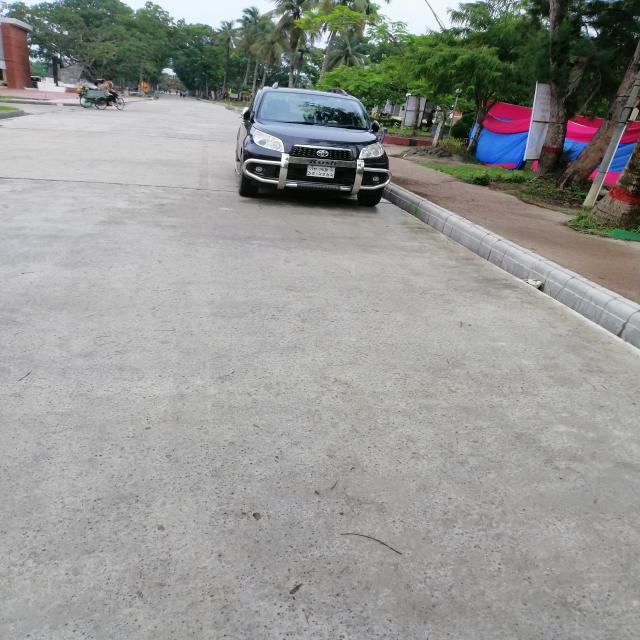Zeep: (240, 71, 394, 211)
